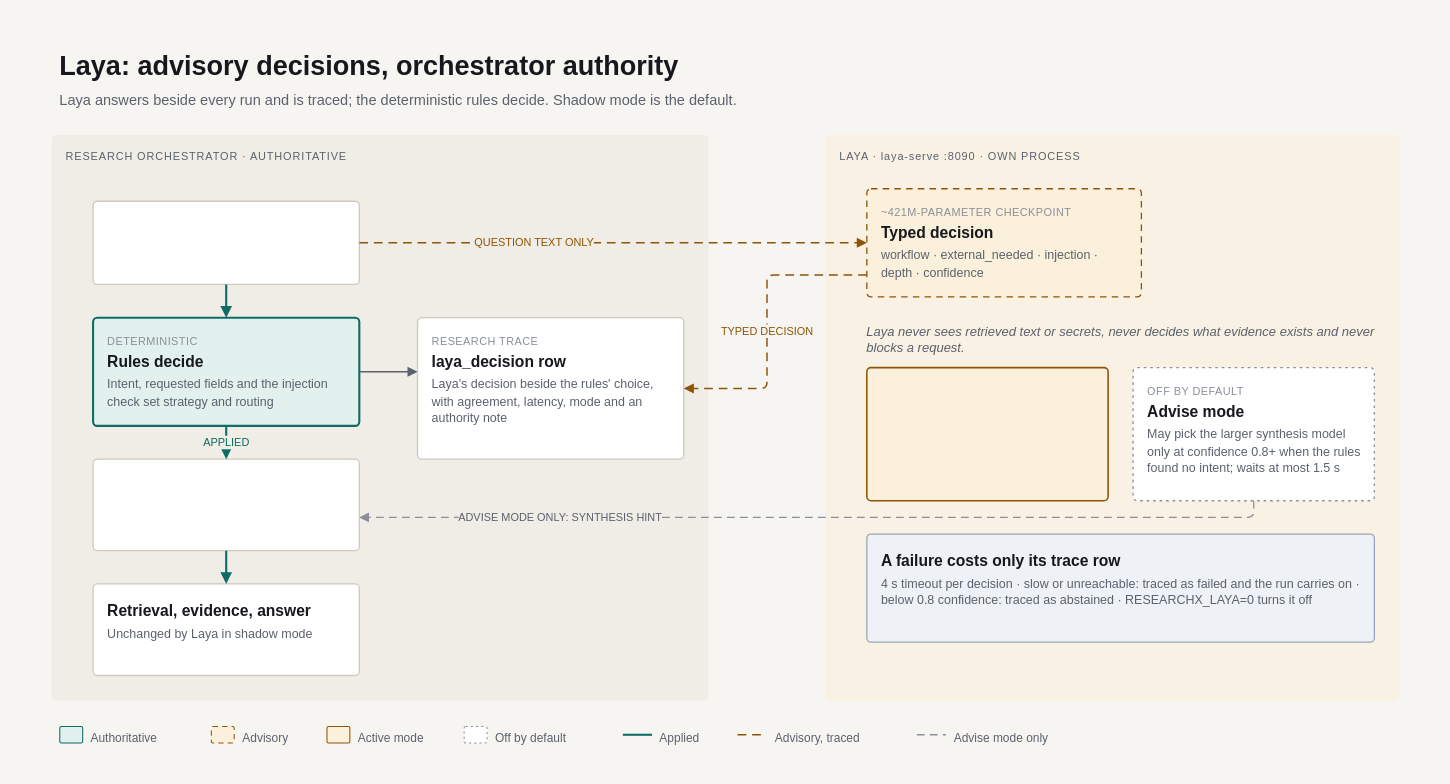
Some shapes in this 1450 by 784 pixel diagram are drawn without their labels. Each missing label, with the centre of its shape:
"DEFAULT · ENABLED Shadow mode Traced beside the rules' choice; never applied" belongs at point 987,433.
"Question arrives The run starts; Laya is asked in parallel" belongs at point 226,242.
"Strategy and routing The rules' choice is applied" belongs at point 226,504.
